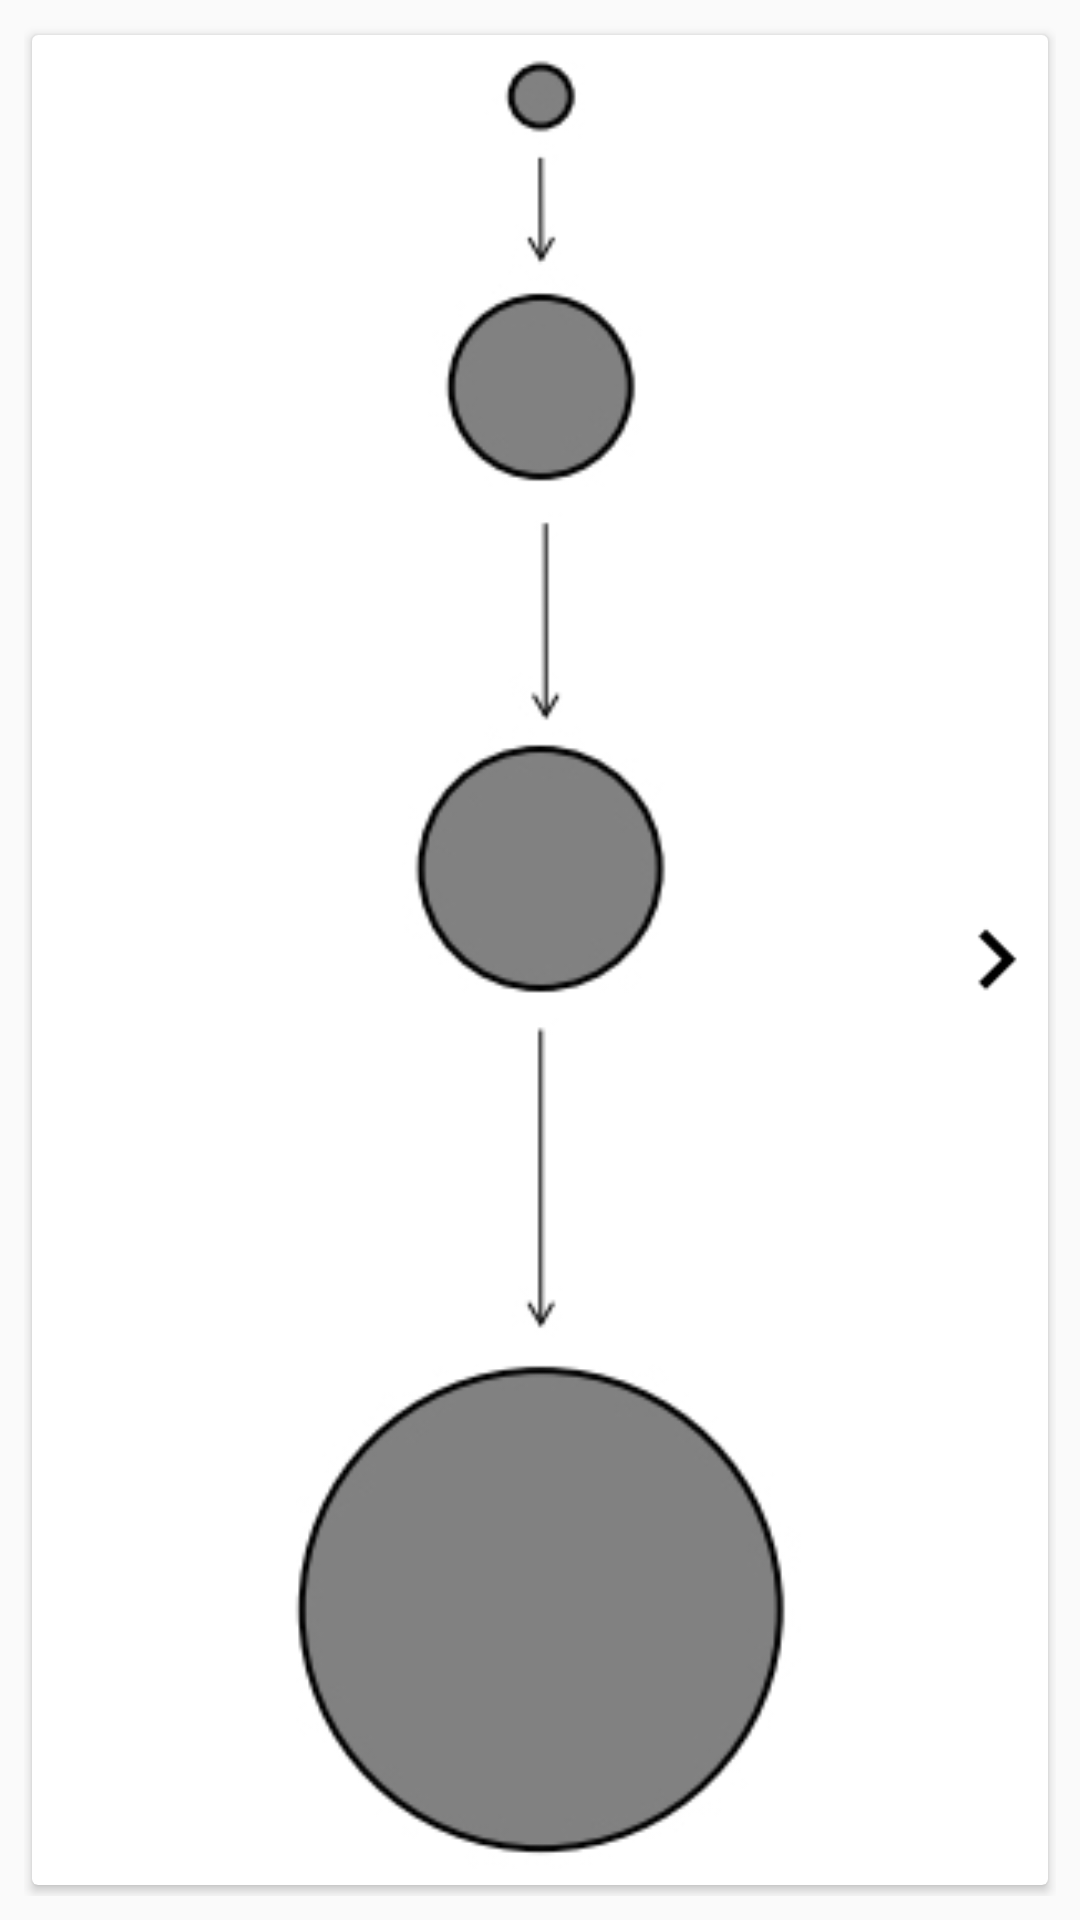

Icon bounding boxes for this 1080x1920 phone screenshot, format (x1, y1, x2, y2):
keyboard arrow right: (978, 929, 1017, 990)
